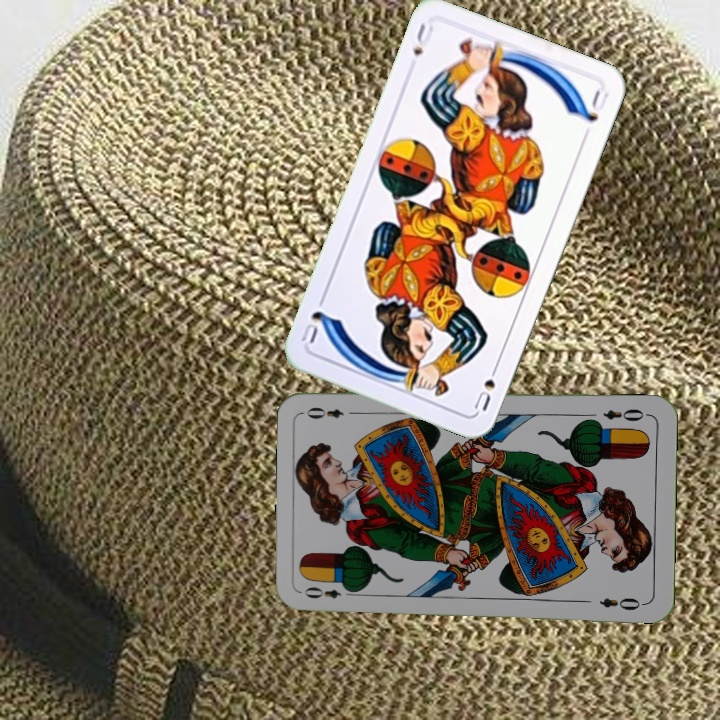EO: (300, 582, 358, 602), (599, 404, 646, 424)
SU: (470, 358, 502, 414), (409, 18, 436, 58)
